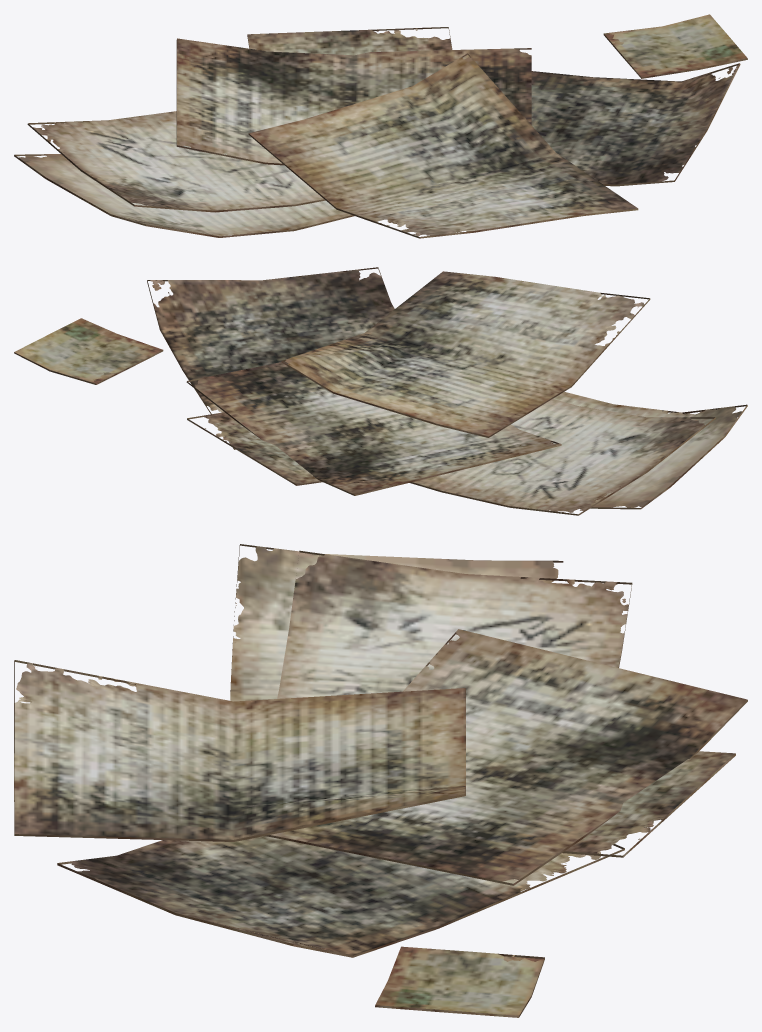
The model's file is paper01.DAE.
The picture shows the model from 3 angles, top to bottom: view 1: azimuth 30°, elevation 25°; view 2: azimuth 150°, elevation 25°; view 3: azimuth 270°, elevation 25°; orthographic projection. The views are drawn at different scales.
Visible parts, largest first — view 1: paper01; view 2: paper01; view 3: paper01.
Part boxes in pixels (<box>): paper01: <box>14,14,747,238</box>; paper01: <box>14,267,747,515</box>; paper01: <box>14,544,747,1017</box>.
Size of the model in its own units: 0.5854 by 0.042 by 0.4145.
